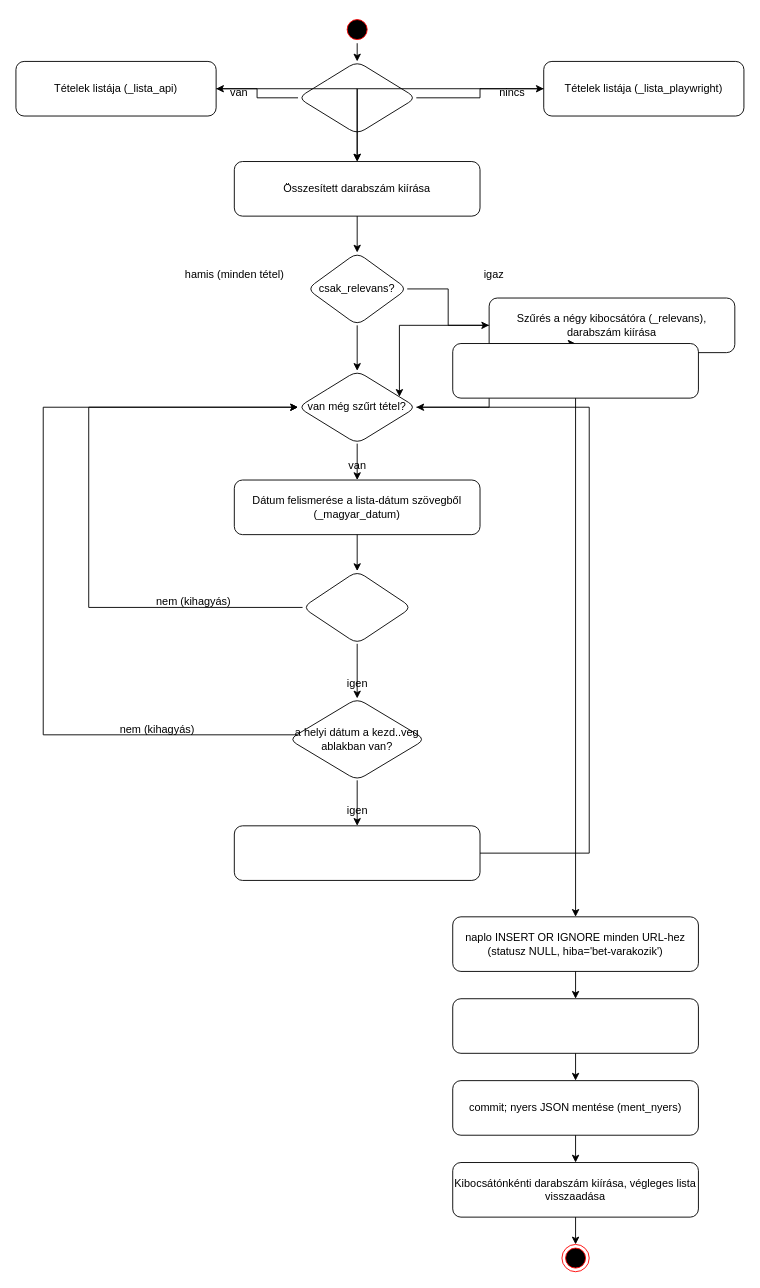
This 760x1288 diagram has some shape labels left out. Each missing label, with the centre of its shape:
bet_lista_meta INSERT OR REPLACE (executemany): the point at 575,1025
Darabszám kiírása a kezd..veg ablakban: the point at 575,370
megjelenes_utc és ido_pontossag hozzáadása, felvétel a végleges listába: the point at 356,852
sikerült a dátum?: the point at 357,607
van API_SABLON (env)?: the point at 356,97
